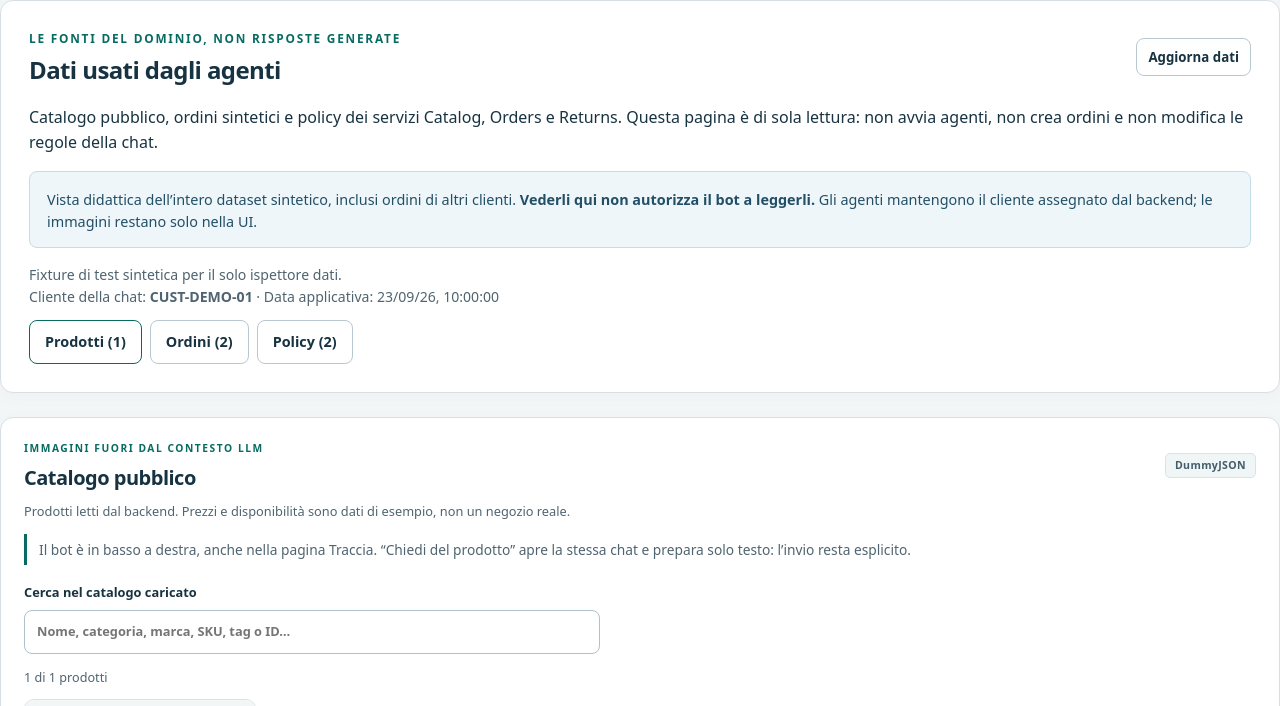
Test: pagina dati in sola lettura › rifiuta risposte malformate e rende espliciti errore e retry senza simulare un dataset vuoto
The image size is (1280, 706).
Expected: the button "Ordini (2)" is shown, [150,320,249,364]
Click the button "Aggiorna dati": click(1194, 57) [1136,38,1251,76]
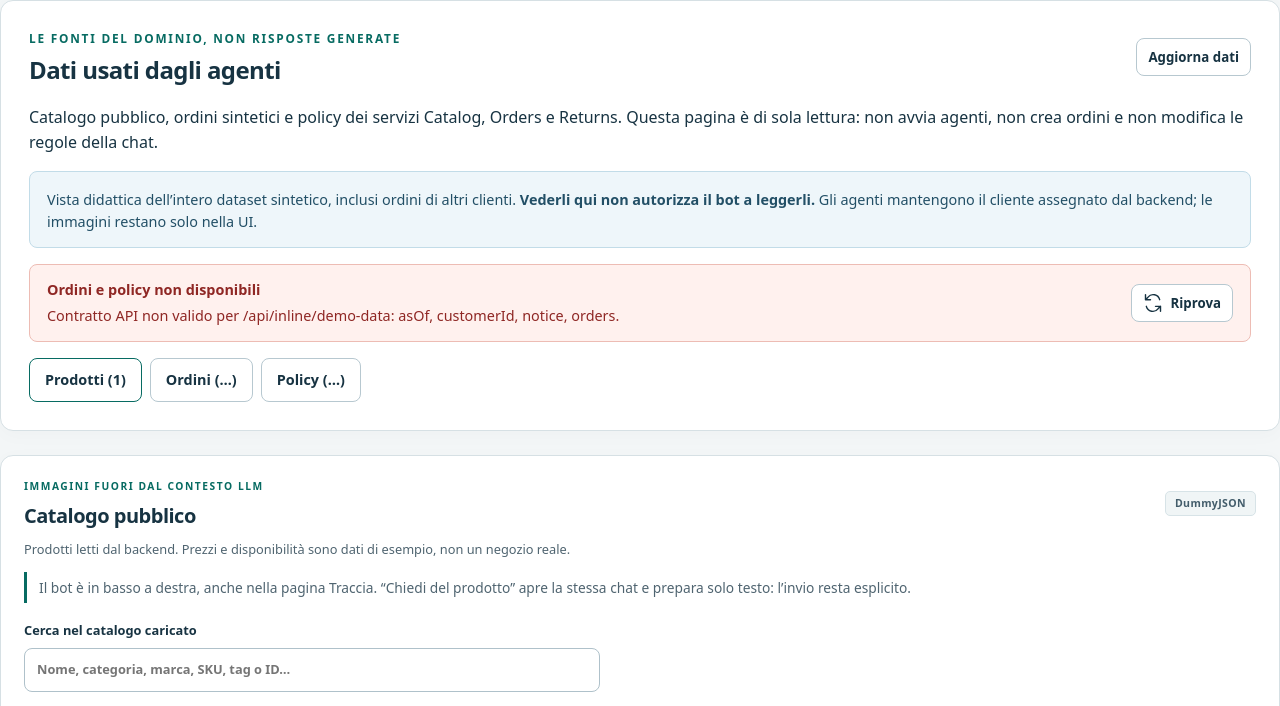
Expected: the message shows "Contratto API non valido", [47,306,619,325]
Click the button "Riprova": click(1182, 303) [1130,284,1233,322]
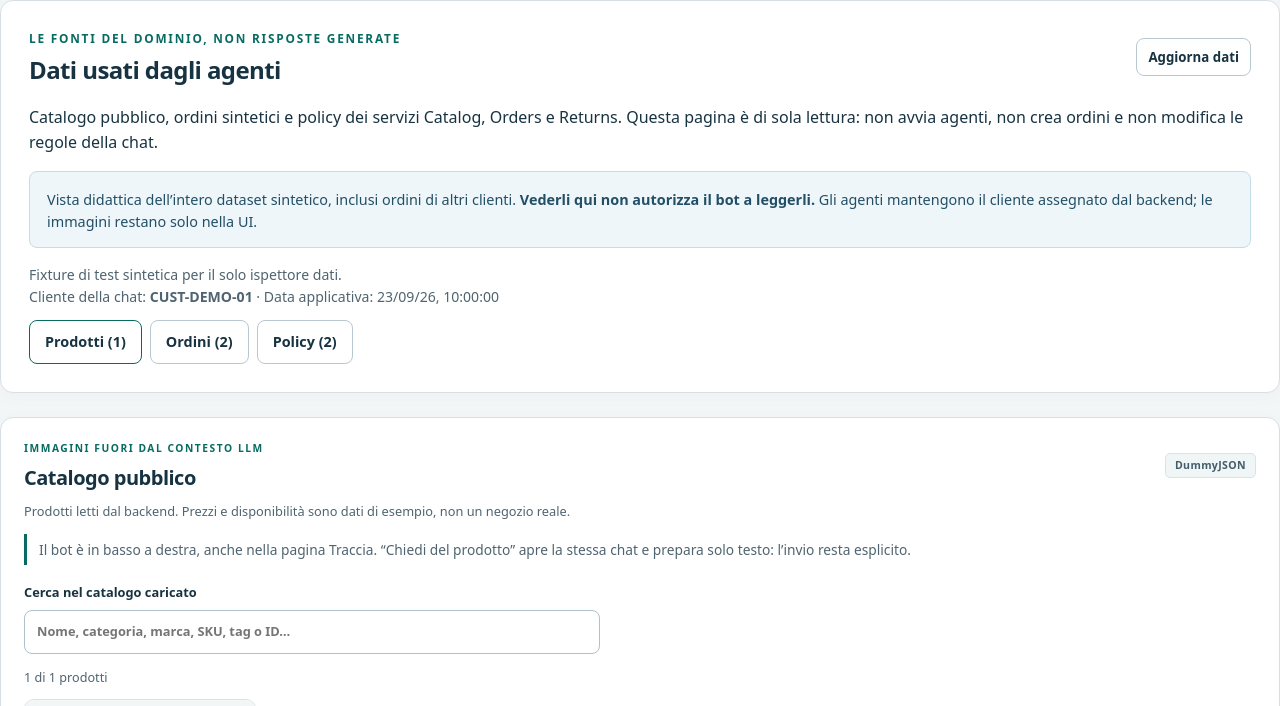
Expected: the button "Ordini (2)" is shown, [150,320,249,364]
Expected: the message is gone
